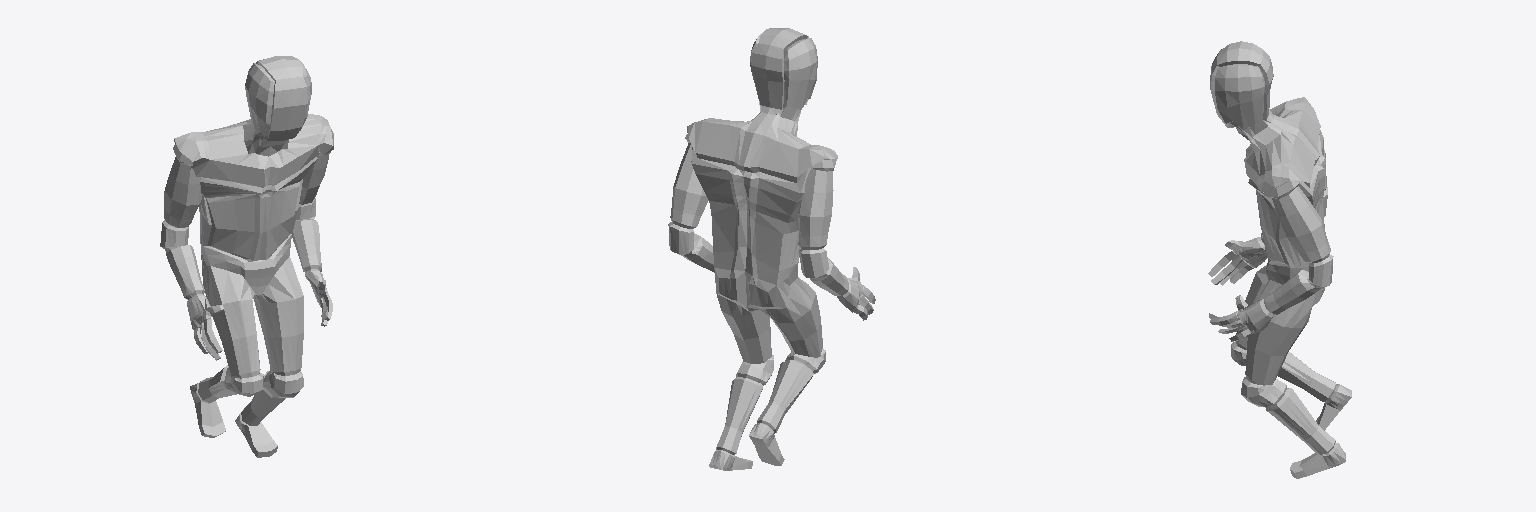
Rendered from GDW_pyroboy5.obj.
The picture shows the model from 3 angles: view 1: azimuth 30°, elevation 25°; view 2: azimuth 150°, elevation 25°; view 3: azimuth 270°, elevation 25°; orthographic projection.
Visible parts, largest first — view 1: GDW_Pyroboy05; view 2: GDW_Pyroboy05; view 3: GDW_Pyroboy05.
Part boxes in pixels (x1,y1,x2,y2): GDW_Pyroboy05: (160, 56, 333, 457); GDW_Pyroboy05: (668, 28, 875, 470); GDW_Pyroboy05: (1208, 41, 1351, 478).
Bounding box in the file's own units: 3.86 × 9.81 × 3.05.